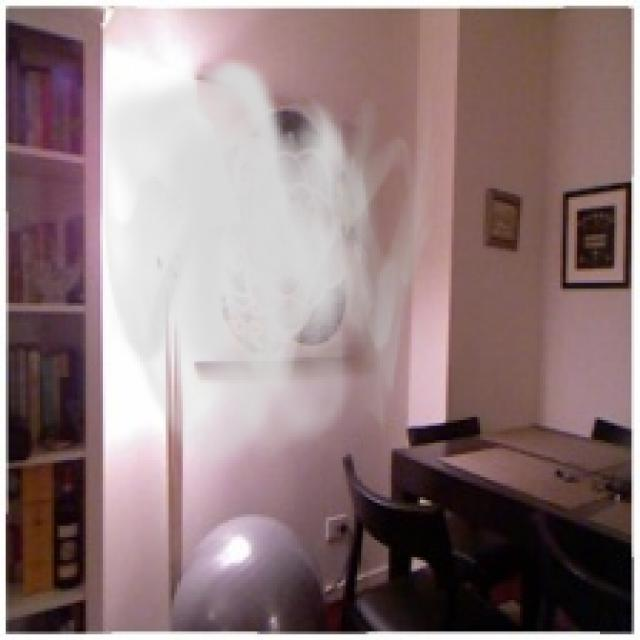smoke: (91, 54, 440, 480)
